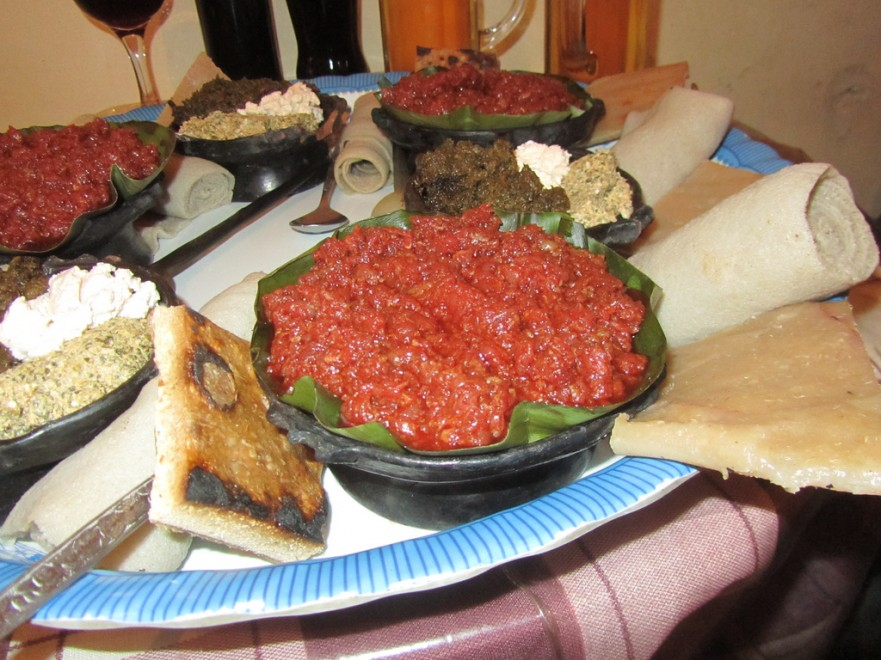ground_beef: (305, 244, 602, 420), (1, 131, 119, 208)
